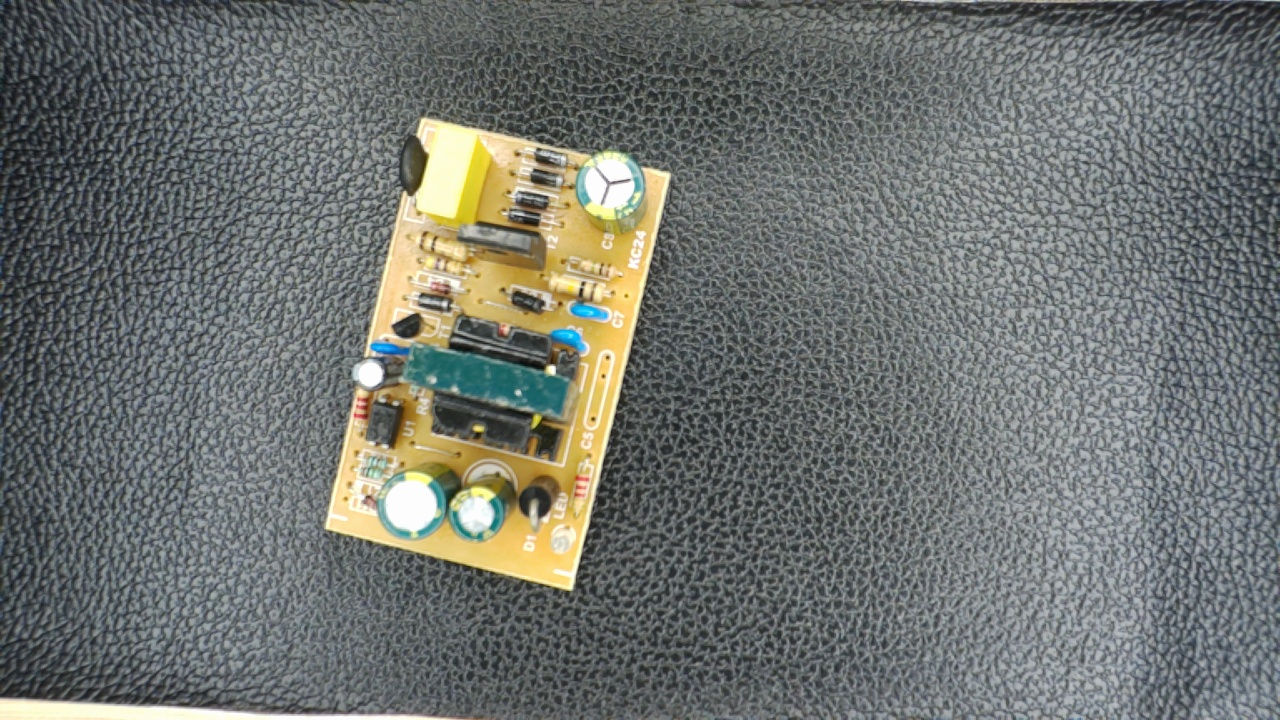fuse: (390, 132, 428, 216)
hv_capacitor: (570, 147, 648, 233)
optocoupler: (363, 395, 408, 450)
